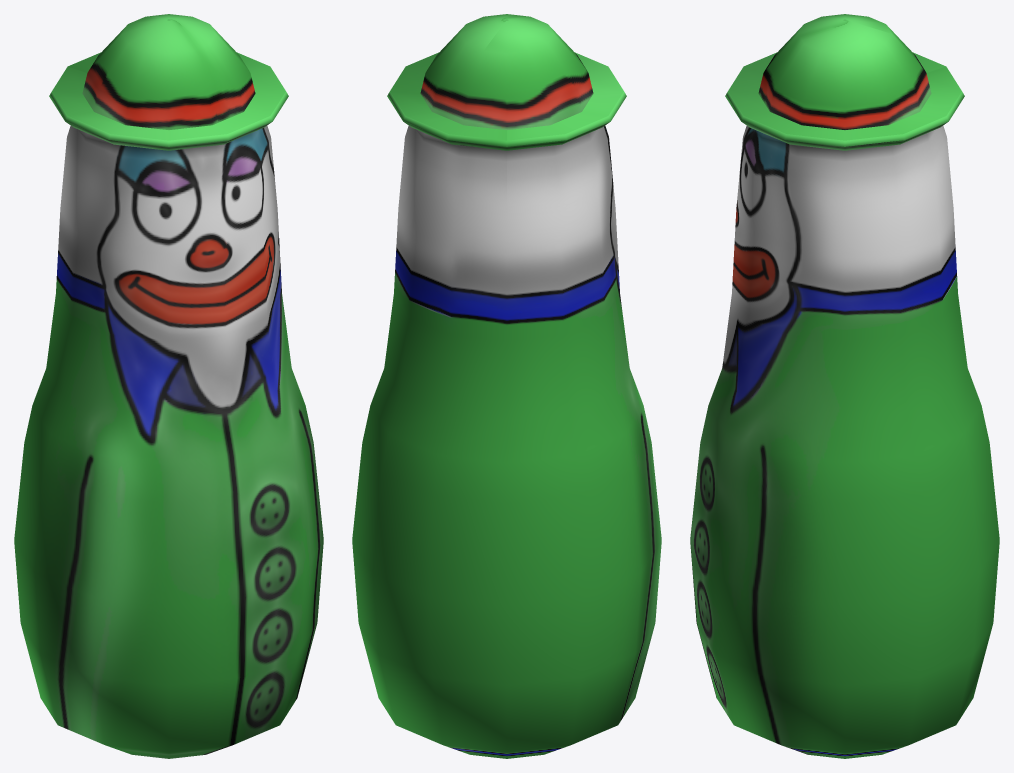
Rendered from clown.FBX.
3 views of the same model, side by side, from view 1: azimuth 30°, elevation 25°; view 2: azimuth 150°, elevation 25°; view 3: azimuth 270°, elevation 25° (orthographic).
Visible parts, largest first — view 1: clown; view 2: clown; view 3: clown.
Part boxes in pixels (box(x1,y1,x2,y2)): clown: box(14, 14, 323, 758); clown: box(352, 14, 661, 758); clown: box(690, 14, 999, 758).
Size of the model in its own units: 57.82 by 57.82 by 150.
Materials: 1 (1 with a texture image).
